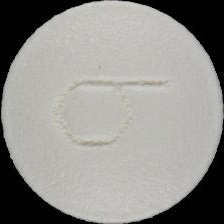69189-0428: (0, 0, 224, 224)
